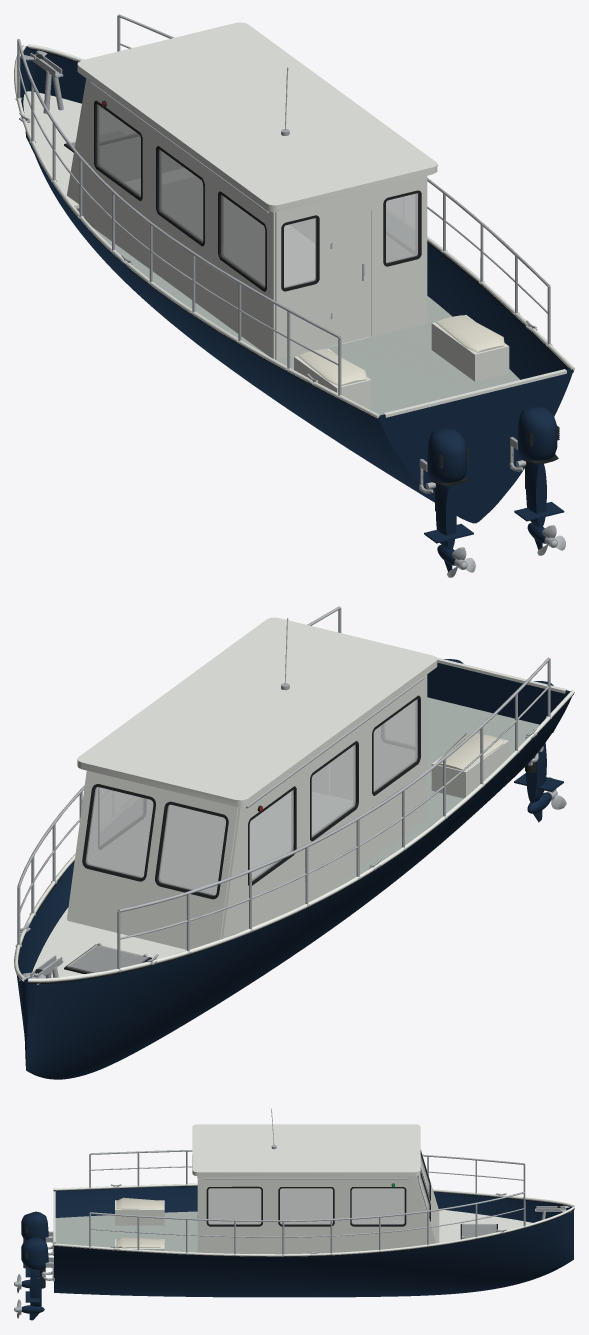
Rendered from boat_cruiser.glb.
3 views of the same model, one above another, from view 1: azimuth 30°, elevation 25°; view 2: azimuth 150°, elevation 25°; view 3: azimuth 270°, elevation 25° (orthographic). The views are drawn at different scales.
Parts seen in each view (by area): view 1: Aft cockpit locker 1, Finite lofted hull and transom, Seated continuous cockpit deck, Cruiser salon raked front opening 1 finite glazing, Anchor retained roller pin, Anchor rolling cylinder, Cockpit padded bench 1; view 2: Aft cockpit locker 1, Finite lofted hull and transom, Cruiser salon raked front opening 1 finite glazing, Seated continuous cockpit deck, Anchor retained roller pin, Anchor rolling cylinder, Cockpit padded bench 1; view 3: Aft cockpit locker 1, Finite lofted hull and transom, Cruiser salon raked front opening 1 finite glazing, Anchor retained roller pin, Seated continuous cockpit deck, Anchor rolling cylinder, Cockpit padded bench 1, Port aft outboard over-transom clamp arm 1.
Boxes of the visible parts, left/top/right/bottom form: Aft cockpit locker 1: left=14, top=22, right=574, bottom=418; Finite lofted hull and transom: left=20, top=46, right=572, bottom=571; Seated continuous cockpit deck: left=93, top=179, right=519, bottom=415; Cruiser salon raked front opening 1 finite glazing: left=67, top=104, right=418, bottom=287; Anchor retained roller pin: left=15, top=14, right=565, bottom=577; Anchor rolling cylinder: left=20, top=48, right=573, bottom=511; Cockpit padded bench 1: left=298, top=315, right=504, bottom=385; Aft cockpit locker 1: left=14, top=617, right=574, bottom=982; Finite lofted hull and transom: left=17, top=659, right=571, bottom=1079; Cruiser salon raked front opening 1 finite glazing: left=67, top=699, right=417, bottom=972; Seated continuous cockpit deck: left=160, top=697, right=539, bottom=894; Anchor retained roller pin: left=15, top=606, right=566, bottom=984; Anchor rolling cylinder: left=16, top=694, right=573, bottom=983; Cockpit padded bench 1: left=438, top=733, right=504, bottom=770; Aft cockpit locker 1: left=53, top=1124, right=574, bottom=1256; Finite lofted hull and transom: left=21, top=1186, right=573, bottom=1320; Cruiser salon raked front opening 1 finite glazing: left=208, top=1155, right=496, bottom=1238; Anchor retained roller pin: left=14, top=1145, right=570, bottom=1318; Seated continuous cockpit deck: left=55, top=1211, right=403, bottom=1252; Anchor rolling cylinder: left=23, top=1150, right=574, bottom=1288; Cockpit padded bench 1: left=116, top=1197, right=163, bottom=1248; Port aft outboard over-transom clamp arm 1: left=43, top=1231, right=54, bottom=1281.
Size of the model in its own units: 3.84 by 4.9 by 12.5.
Materials: 11 (6 with a texture image).
